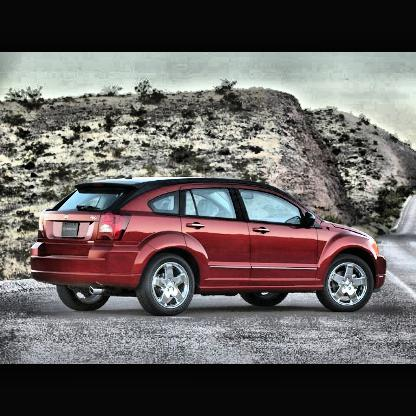Dodge Caliber Wagon 2007: (28, 175, 391, 320)
